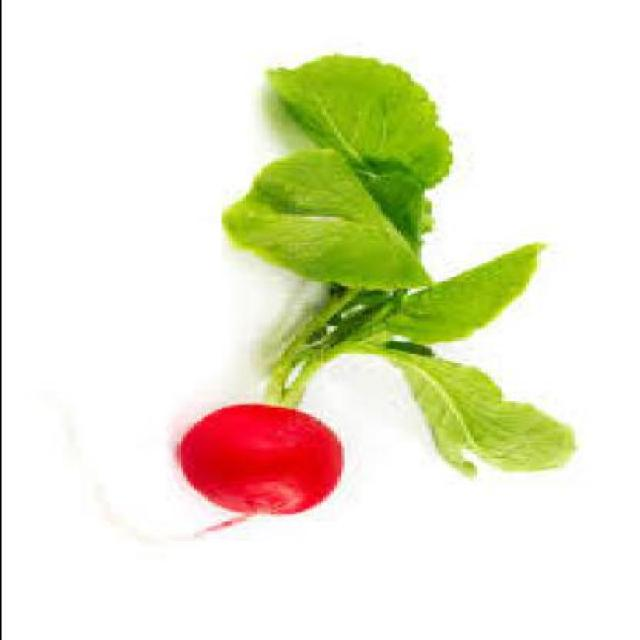BIODEGRADABLE: (185, 51, 581, 540), (175, 400, 347, 514)
